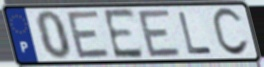0: (33, 9, 74, 61)
C: (210, 6, 252, 58)
E: (135, 8, 184, 60), (64, 9, 113, 61), (101, 7, 147, 61)
L: (176, 10, 215, 55)
